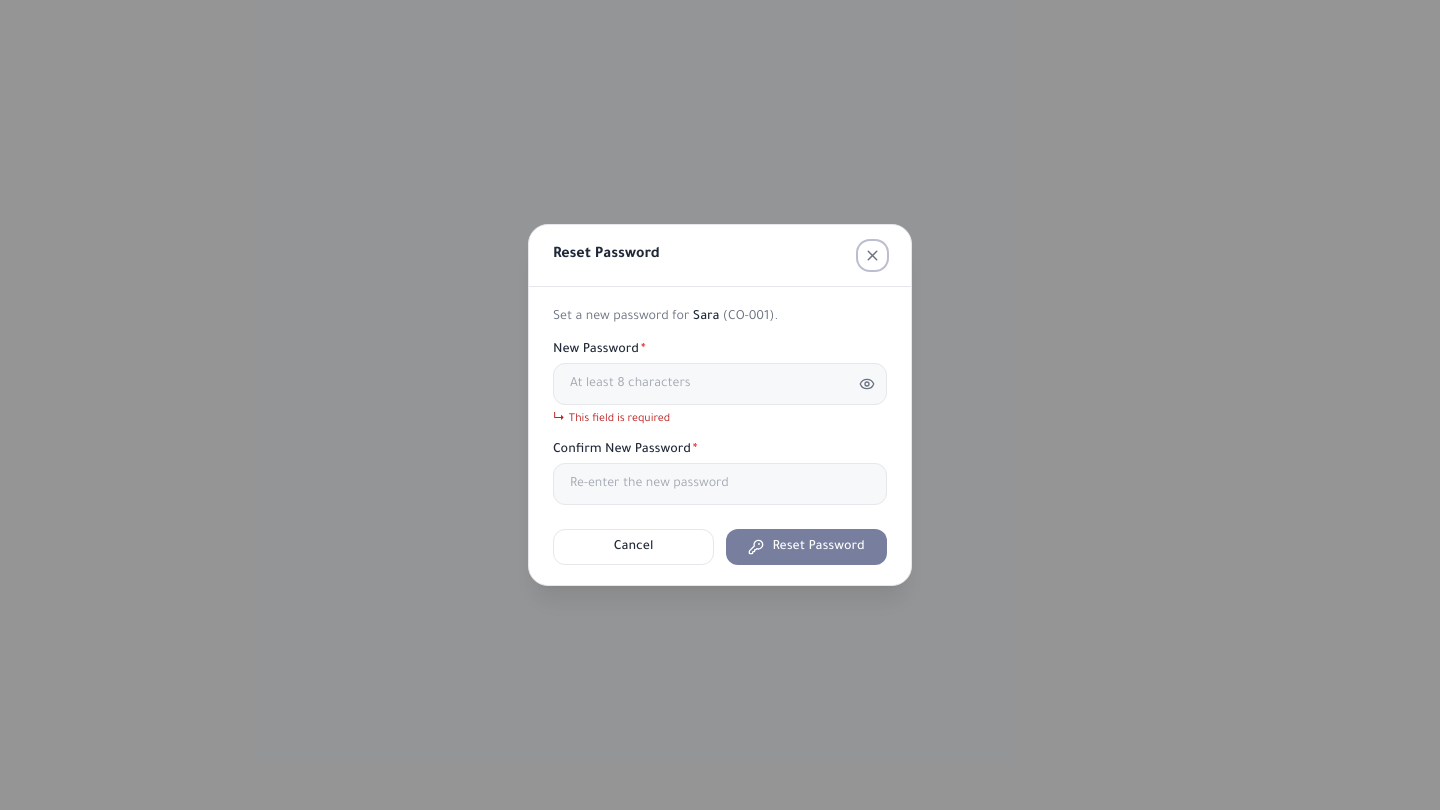
Scenario: ResetPasswordModal › shows the target user and requires matching passwords
The width and height of the screenshot is (1440, 810).
Expected: the text "Set a new password for Sara (CO-001)." is shown, [553,310,778,324]
Type "GoodPass1" into the password field with placeholder "At least 8 characters". click: (720, 384)
box: [553,363,887,405]
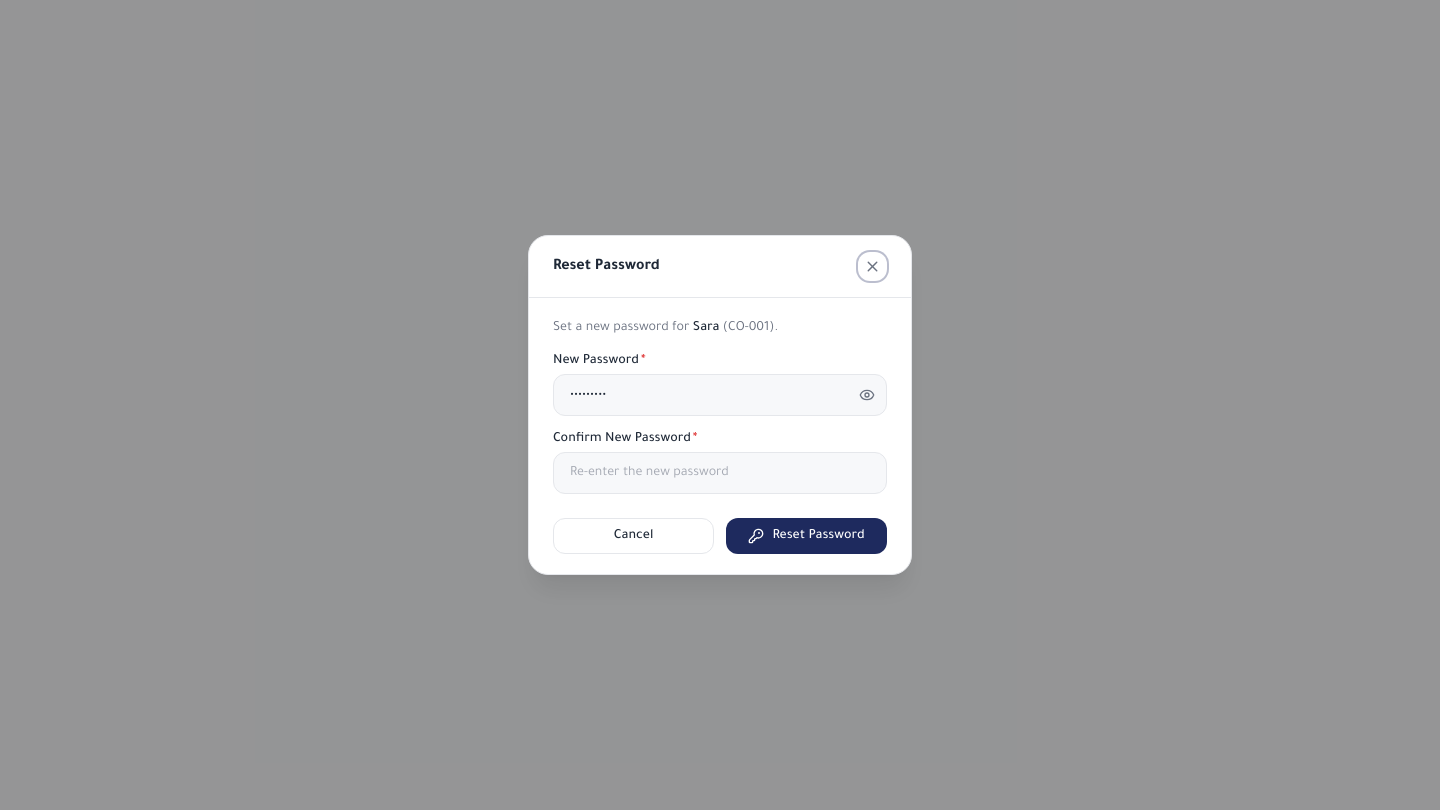
Type "Different1" into the password field with placeholder "Re-enter the new password". click: (720, 473)
box: [553,452,887,494]
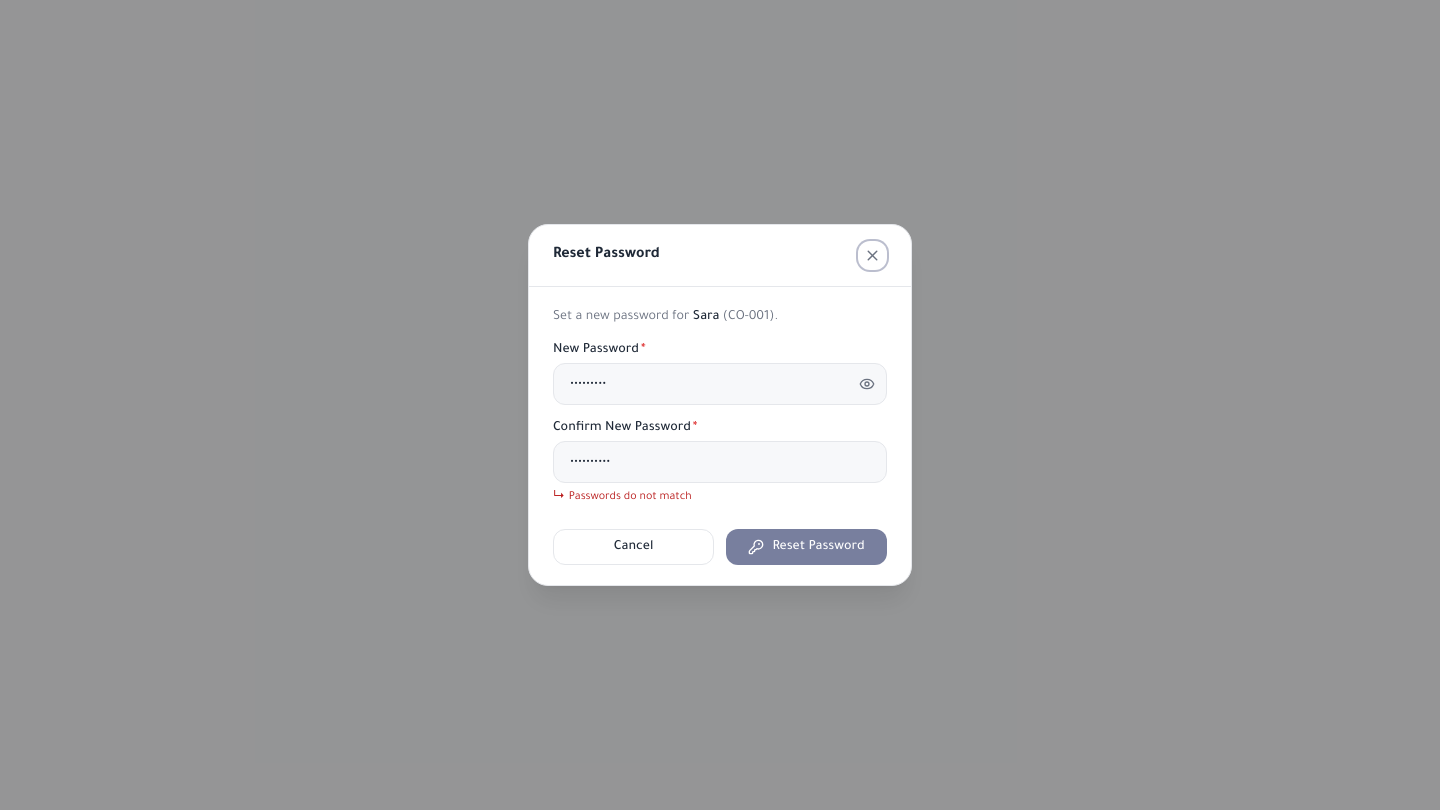
Now the text "Passwords do not match" is shown, box [569,491,692,503]
Now the button "Reset Password" is disabled, box [726,529,887,565]
